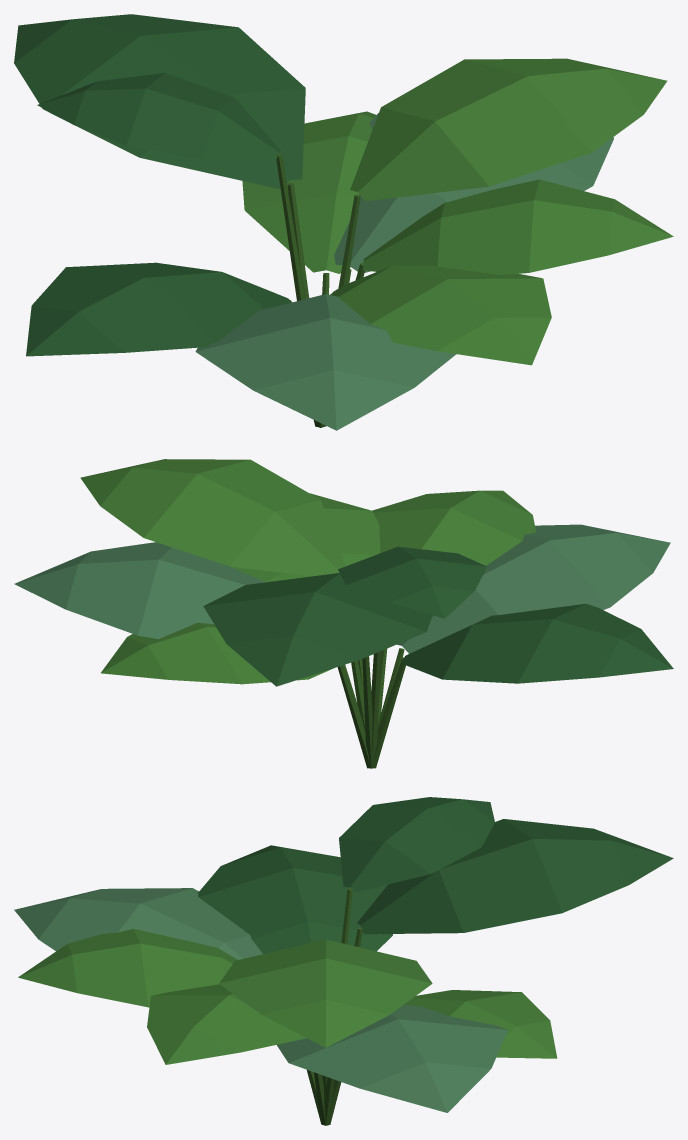
The model's file is elephant_ear.glb.
3 views of the same model, one above another, from view 1: azimuth 30°, elevation 25°; view 2: azimuth 150°, elevation 25°; view 3: azimuth 270°, elevation 25° (orthographic). The views are drawn at different scales.
Visible parts, largest first — view 1: elephant_ear; view 2: elephant_ear; view 3: elephant_ear.
Part boxes in pixels (left/top/right/bottom): elephant_ear: left=14, top=14, right=673, bottom=430; elephant_ear: left=14, top=459, right=673, bottom=768; elephant_ear: left=14, top=797, right=673, bottom=1125.
Bounding box in the file's own units: 2.21 × 0.9928 × 2.21.
